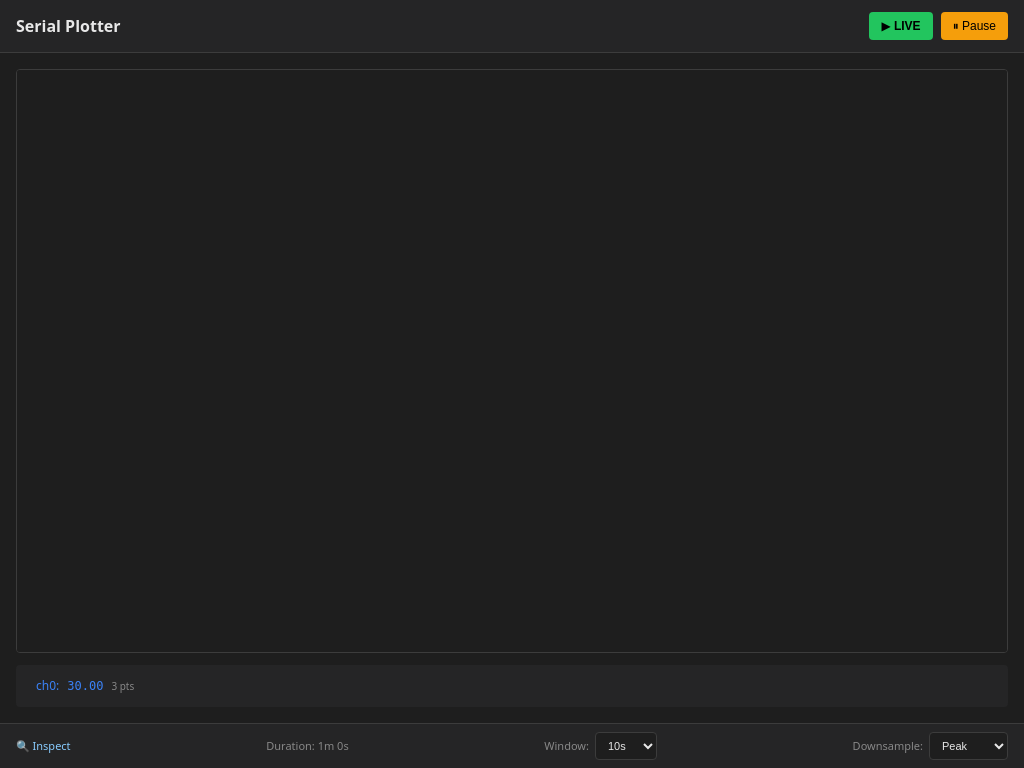
Test: PlotterWindow › returns to LIVE when the LIVE button is clicked
expect the text "🔍 Inspect" is shown: met, box [16, 738, 71, 754]
Click the button "▶ LIVE" at (901, 26), box [869, 12, 933, 40]
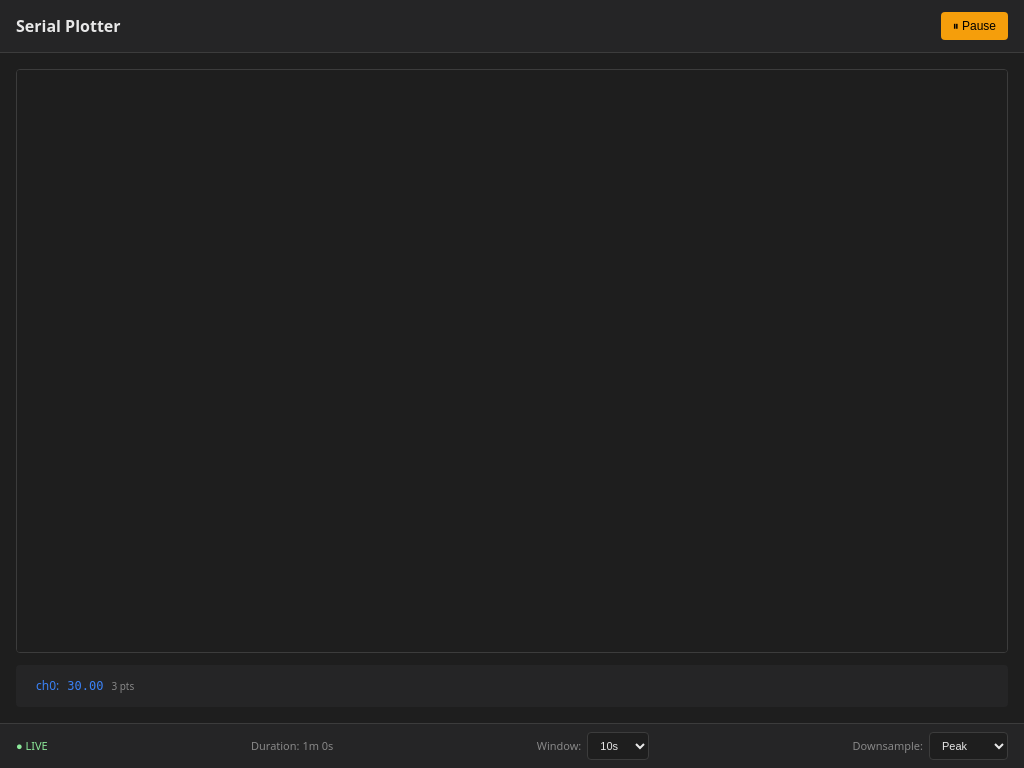
expect the text "● LIVE" is shown: met, box [16, 738, 48, 754]
